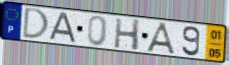0: (86, 15, 109, 48)
9: (182, 25, 202, 57)
A: (145, 21, 179, 56), (46, 11, 79, 44)
D: (22, 7, 51, 40)
H: (113, 17, 142, 52)
